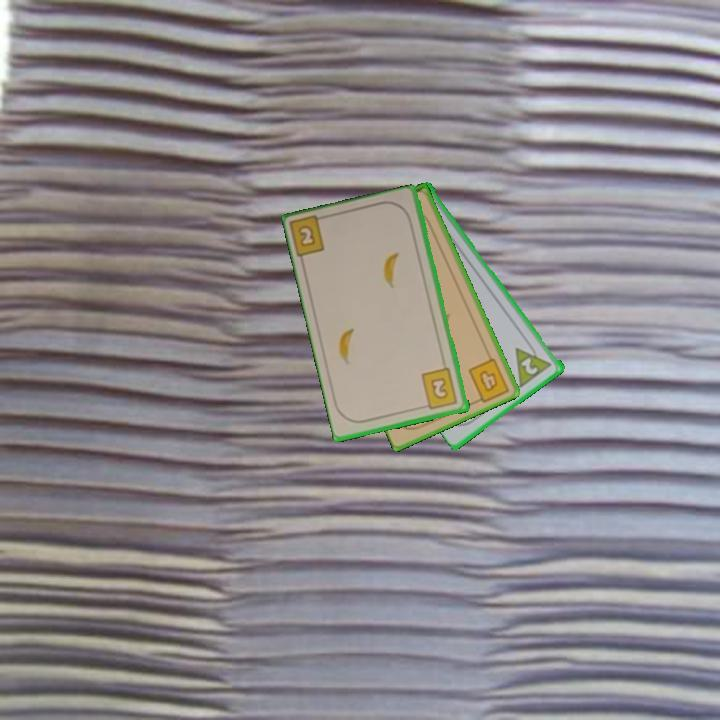2b: (288, 212, 332, 261), (418, 365, 461, 412)
2p: (512, 337, 556, 390)
4b: (465, 354, 512, 406)
